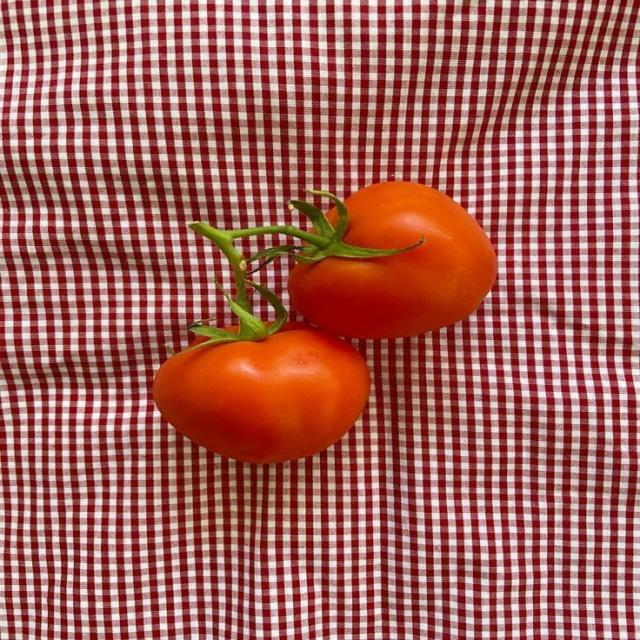tomato: (288, 182, 496, 338), (154, 323, 370, 463)
